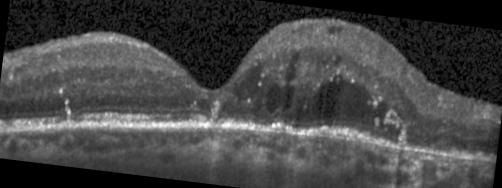intraretinal_cyst: (311, 75, 387, 128), (233, 60, 262, 98), (266, 84, 293, 113), (284, 52, 299, 80), (327, 25, 343, 34), (335, 55, 341, 65)
